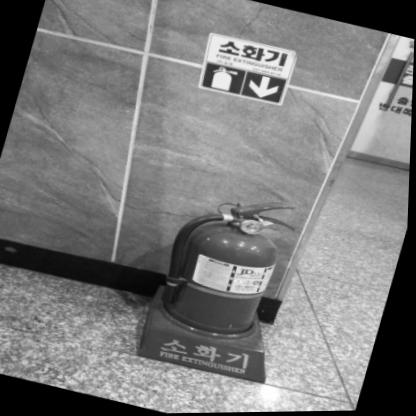FE: (134, 175, 318, 387)
